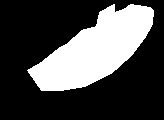Fire: (33, 4, 156, 92)
